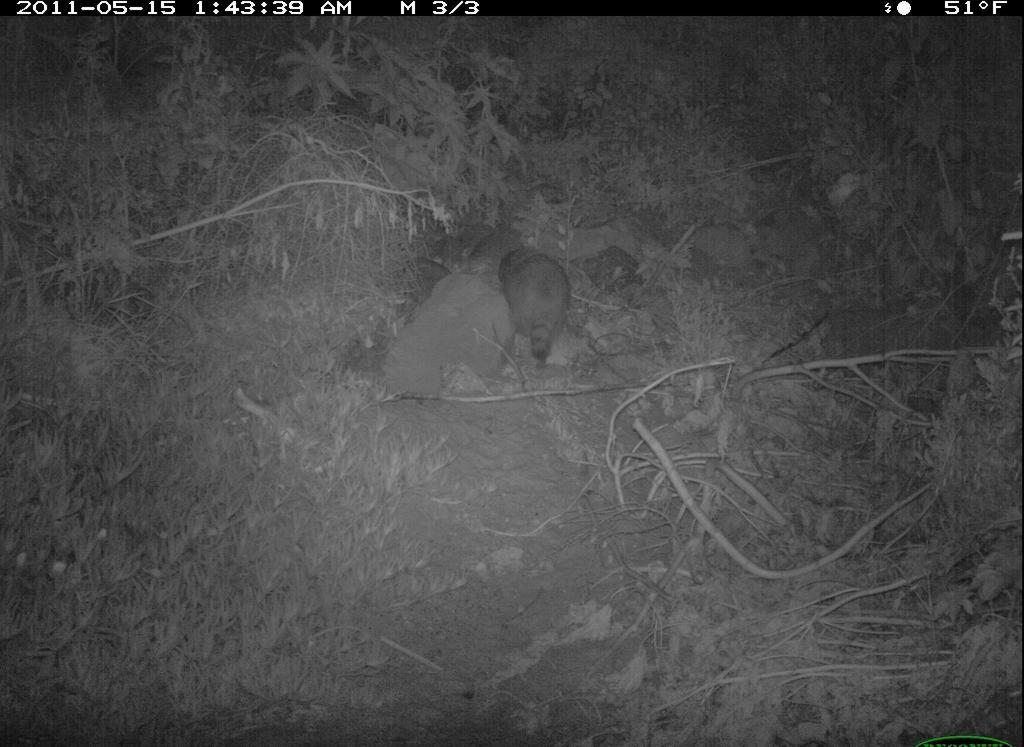raccoon: (493, 228, 579, 367)
